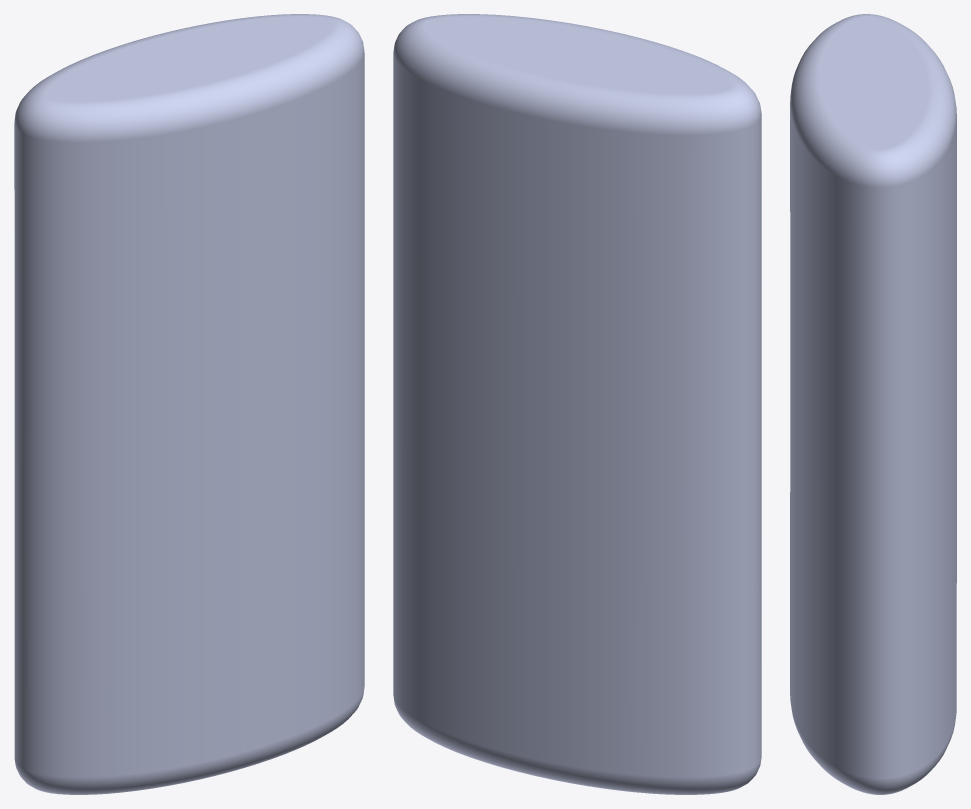
File: Suave.dae
The picture shows the model from 3 angles, left to right: view 1: azimuth 30°, elevation 25°; view 2: azimuth 150°, elevation 25°; view 3: azimuth 270°, elevation 25°; orthographic projection. The views are drawn at different scales.
Parts seen in each view (by area): view 1: Actor0; view 2: Actor0; view 3: Actor0.
Boxes of the visible parts, <box> form: Actor0: <box>14,14,364,794</box>; Actor0: <box>393,14,761,794</box>; Actor0: <box>790,14,956,794</box>.
Size of the model in its own units: 0.1295 by 0.247 by 0.0581.
